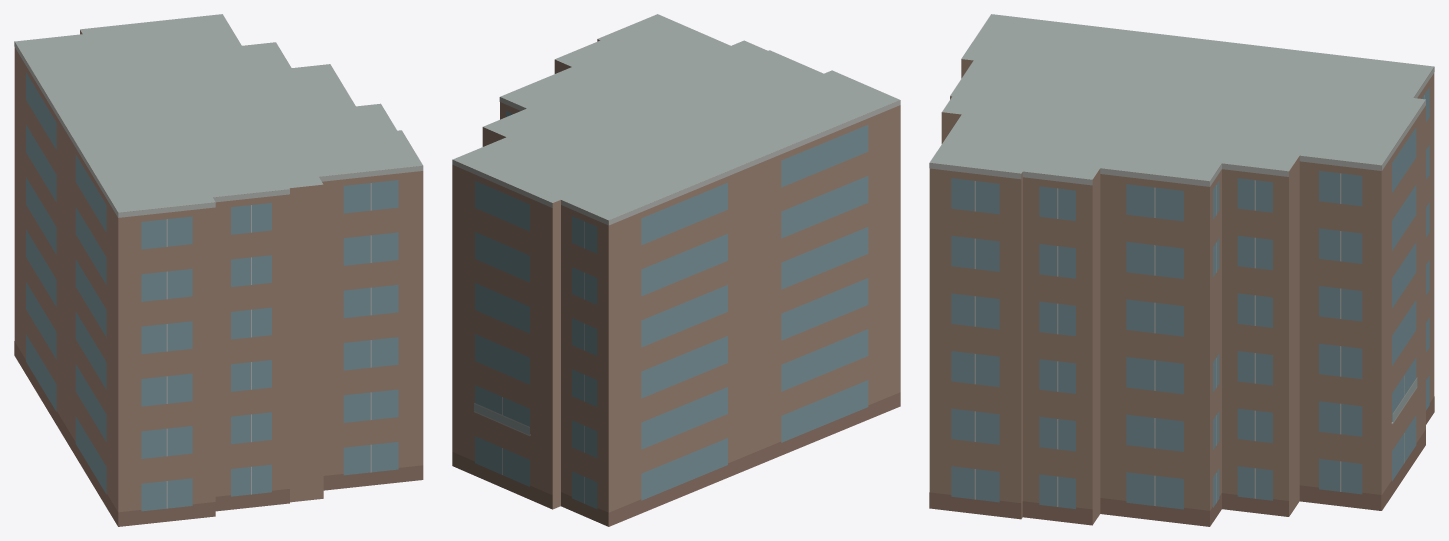
Rendered from survey-upis-32980942.glb.
The picture shows the model from 3 angles, left to right: view 1: azimuth 30°, elevation 25°; view 2: azimuth 150°, elevation 25°; view 3: azimuth 270°, elevation 25°; orthographic projection. The views are drawn at different scales.
Parts seen in each view (by area): view 1: survey-upis-32980942.tmp; view 2: survey-upis-32980942.tmp; view 3: survey-upis-32980942.tmp.
Part boxes in pixels (x1,y1,x2,y2): survey-upis-32980942.tmp: (14, 14, 423, 526); survey-upis-32980942.tmp: (452, 14, 900, 526); survey-upis-32980942.tmp: (929, 14, 1434, 526).
Bounding box in the file's own units: 15.36 × 14.8 × 19.61.
